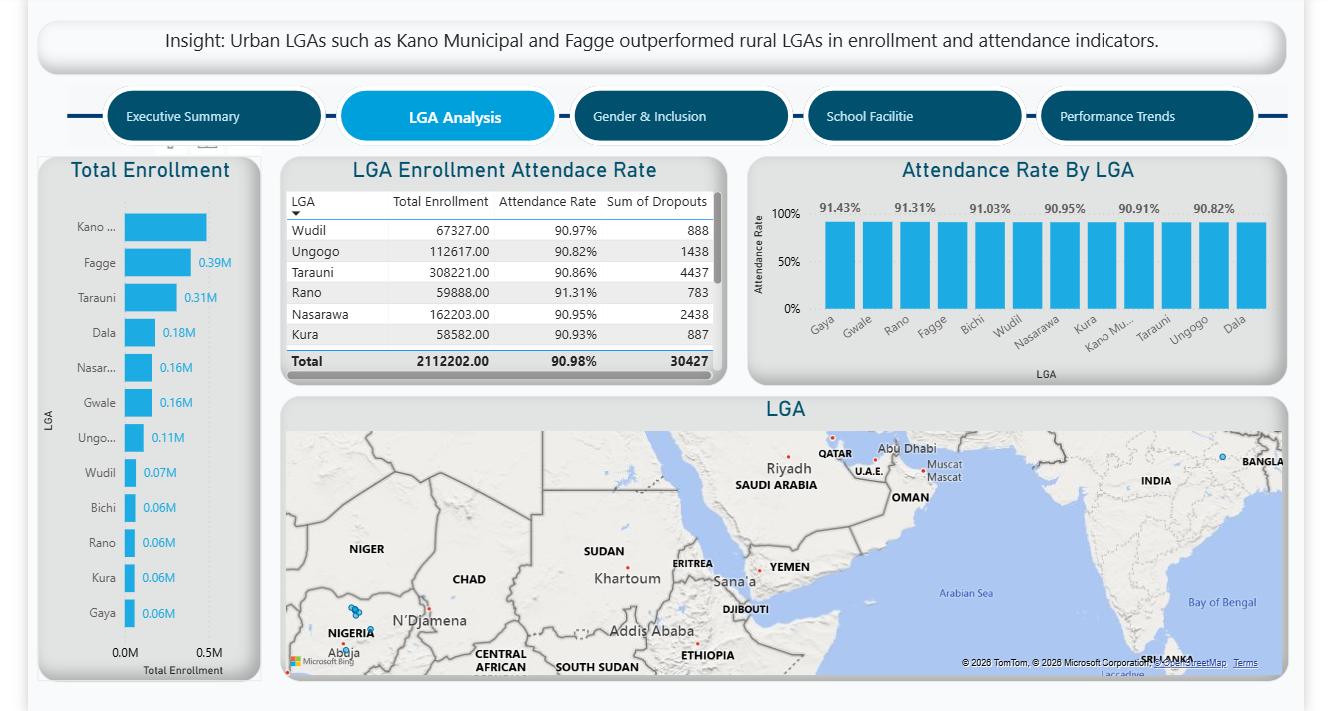

Layout of this report page (visuals, bound fields, positions):
{"tool":"powerbi","page":{"name":"LGA Analysis","canvas":[1280,720],"ordinal":1},"visuals":[{"type":"clusteredBarChart","title":"Total Enrollment","fields":{"Category":["Raw_Data.LGA"],"Y":["Raw_Data.Total Enrollment"]},"box":[10.1,161.3,224.6,527],"z":0},{"type":"clusteredColumnChart","title":"Attendance Rate By LGA","fields":{"Category":["Raw_Data.LGA"],"Y":["Raw_Data.Attendance Rate"]},"box":[720,161.3,542.9,230.4],"z":1000},{"type":"map","fields":{"Category":["Raw_Data.LGA"]},"box":[252,401.8,1012.3,286.6],"z":2000},{"type":"tableEx","title":"LGA Enrollment Attendace Rate","fields":{"Values":["Raw_Data.LGA","Raw_Data.Total Enrollment","Raw_Data.Attendance Rate","Sum(Raw_Data.Dropouts)"]},"box":[252,161.3,449.3,230.4],"z":3000},{"type":"textbox","box":[10.1,25.9,1252.8,54.7],"z":4000},{"type":"shape","box":[38.9,90.7,1224,60.5],"z":5000},{"type":"pageNavigator","box":[74.9,90.3,1160.6,60.5],"z":6000}]}

Visuals, with their boxes on the page's 1280x720 design canvas (x1, y1, x2, y2). These are canvas units, not pixel positions in the 1328x711 screenshot, which may show the page scaled, cropped or inside an application window:
"Total Enrollment" clusteredBarChart: x1=10, y1=161, x2=235, y2=688
"Attendance Rate By LGA" clusteredColumnChart: x1=720, y1=161, x2=1263, y2=392
map - Raw_Data.LGA: x1=252, y1=402, x2=1264, y2=688
"LGA Enrollment Attendace Rate" tableEx: x1=252, y1=161, x2=701, y2=392
textbox: x1=10, y1=26, x2=1263, y2=81
shape: x1=39, y1=91, x2=1263, y2=151
pageNavigator: x1=75, y1=90, x2=1236, y2=151
